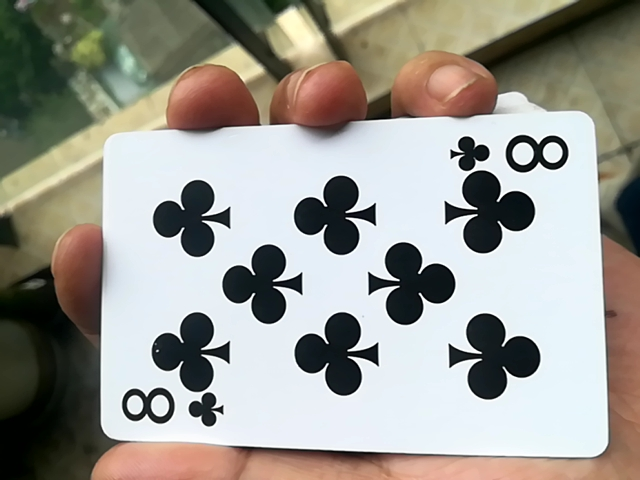mh 8: (92, 114, 605, 468)
